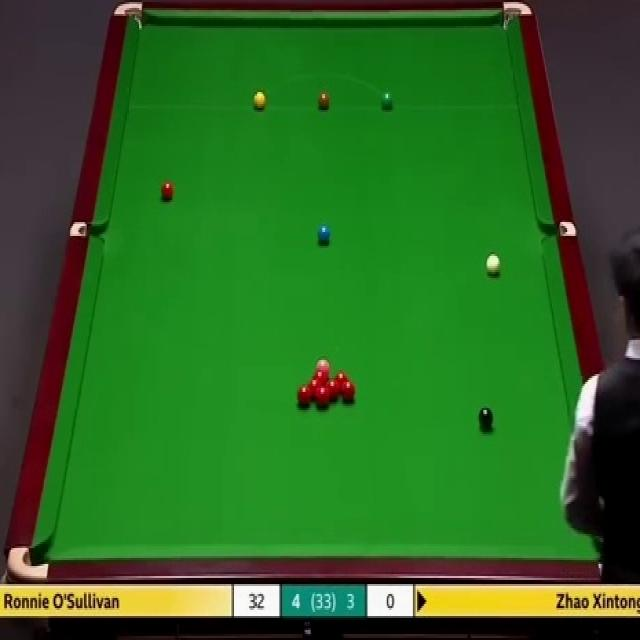pocket: (7, 543, 49, 580), (109, 0, 145, 34), (499, 0, 530, 32), (539, 218, 576, 238), (67, 220, 105, 235)
